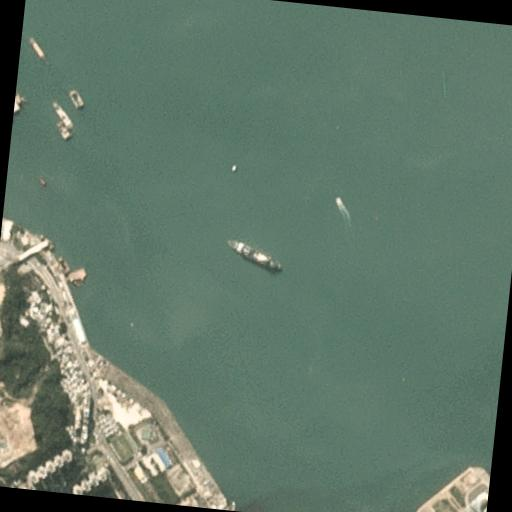ship: (226, 239, 286, 273), (49, 102, 76, 130), (26, 36, 50, 64), (53, 120, 75, 143), (67, 89, 86, 112), (56, 256, 72, 274), (36, 178, 46, 188), (335, 197, 344, 207)
